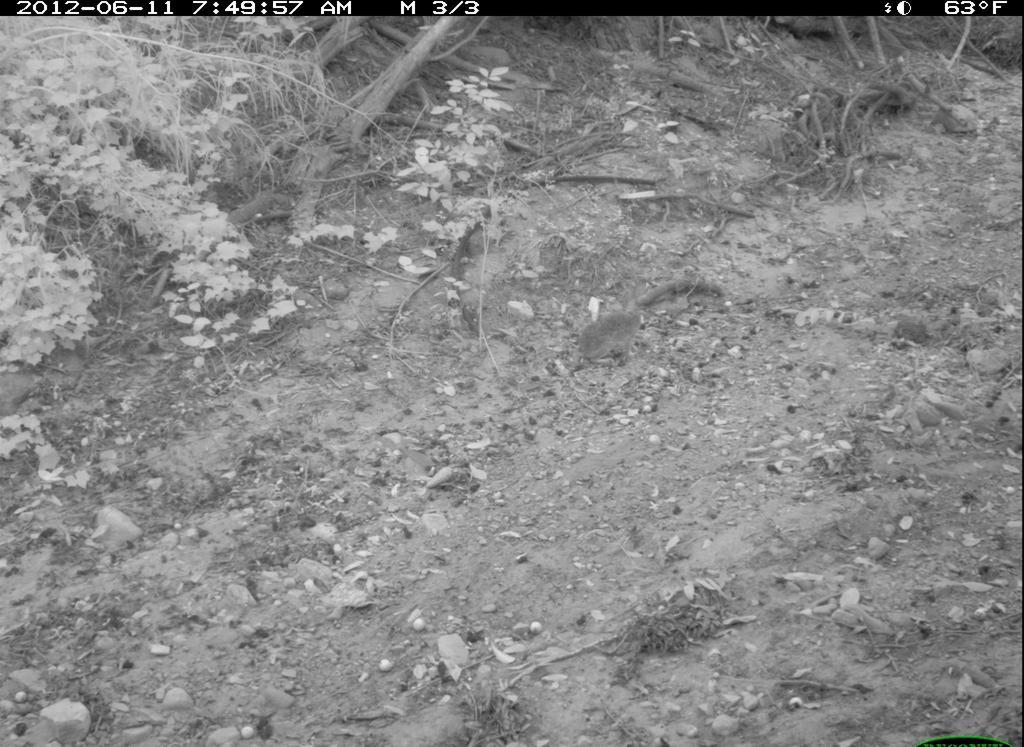rabbit: (562, 282, 676, 373)
